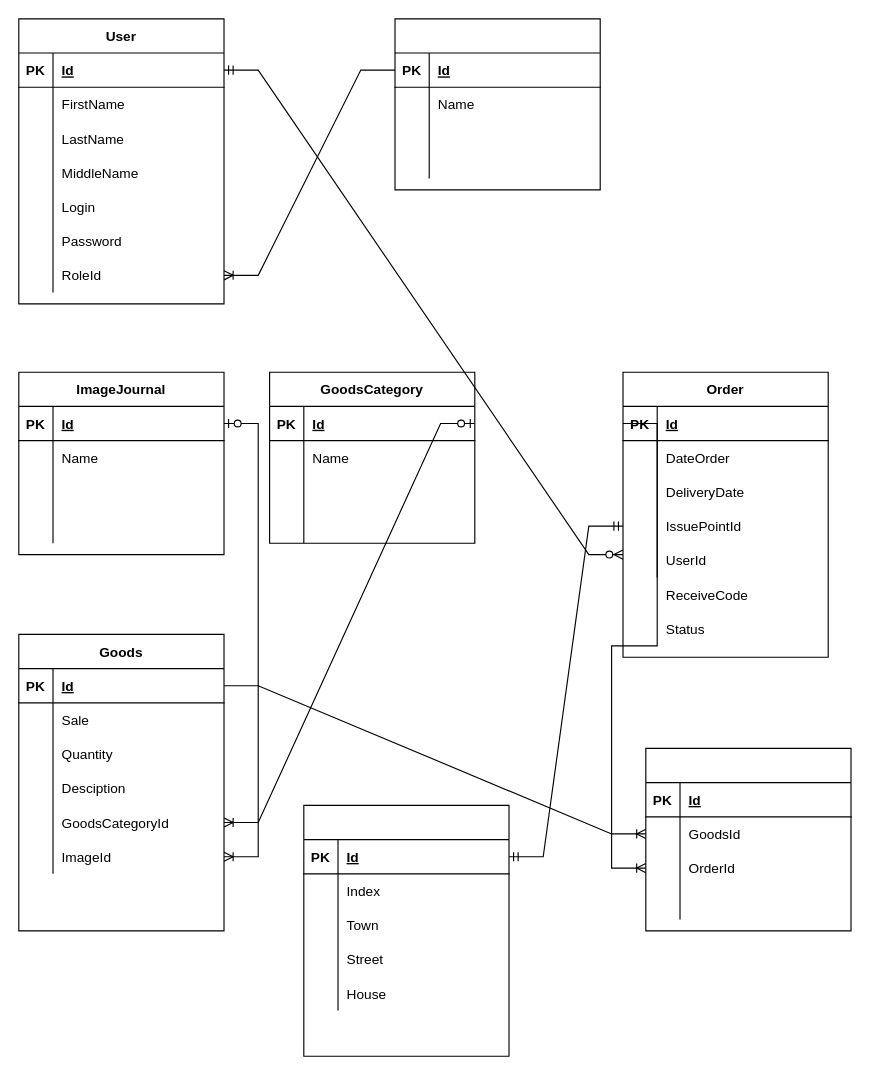
Image size: 870x1075. Some labels were removed from this diagram. Here are the shapes that lost their labels. From the top down, the box of each, then its label:
(394, 18, 600, 190): Role
(645, 747, 851, 931): OrderGoods
(303, 804, 509, 1056): IssuePoint
